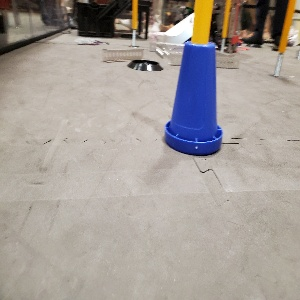Blue_1: (164, 39, 222, 155)
